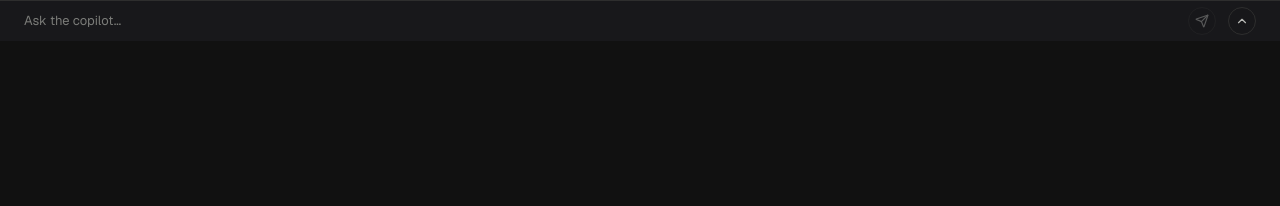
Test: CopilotStrip — structural › expands on first click
This screenshot has width=1280, height=206.
Click the button named "Expand copilot panel" at (1242, 21), box [1228, 7, 1256, 35]
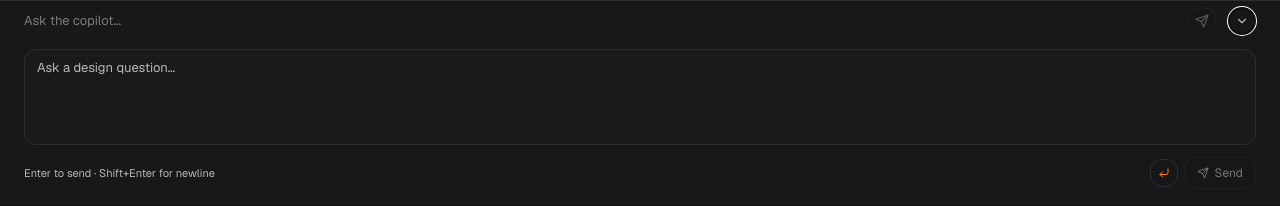
Expected: the button named "Collapse copilot panel" is expanded, [1228, 7, 1256, 35]
